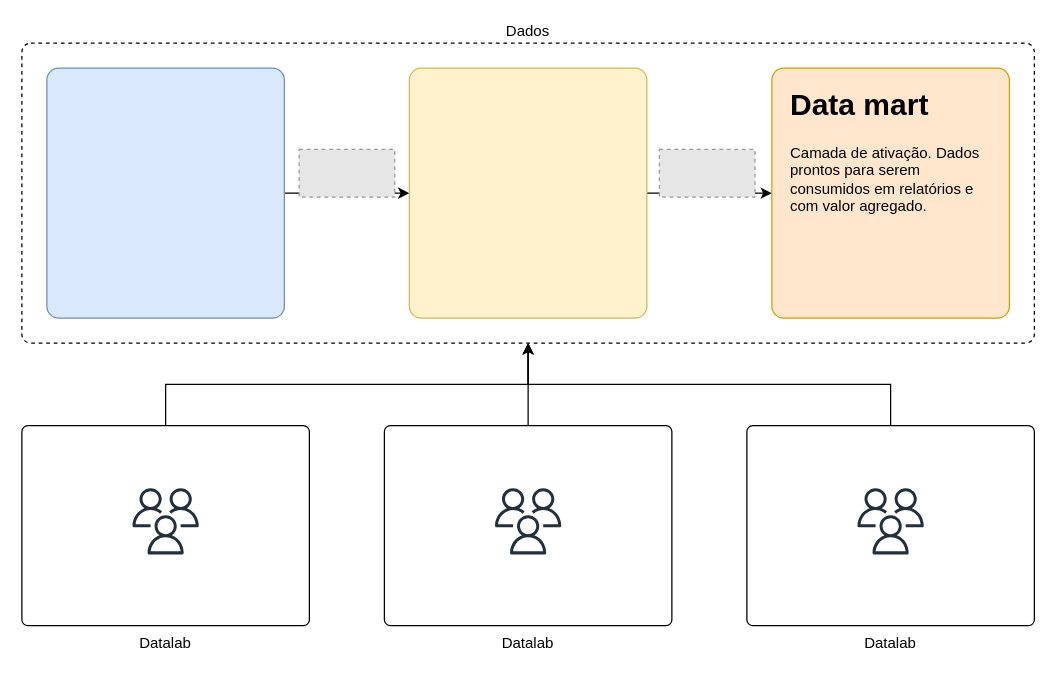
This 1056x673 diagram has some shape labels left out. Grey dashed boxes stand in for pictures. Each missing label, with the box of its shape:
Curated Primeira camada com transformações e tratamentos nos dados: (408, 67, 647, 318)
Raw Dados replicados da origem e sem transformações.: (46, 67, 284, 318)
